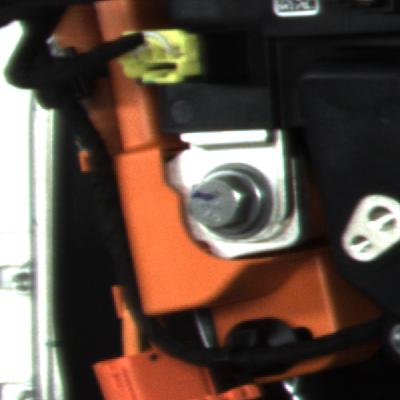nut_b: (189, 148, 282, 249)
